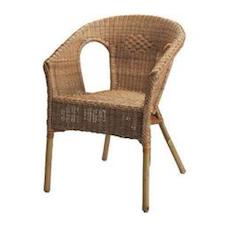chair: (6, 4, 212, 212)
